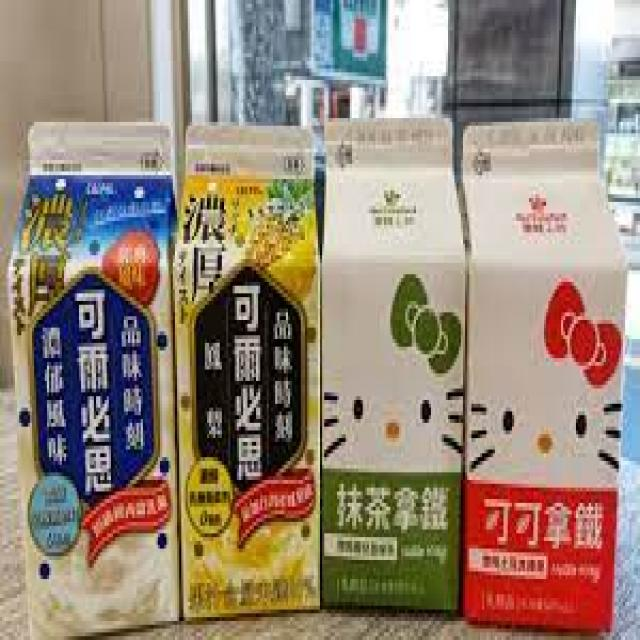non_white_jug: (455, 94, 627, 636), (13, 111, 186, 626), (166, 101, 328, 619), (317, 94, 469, 614)
